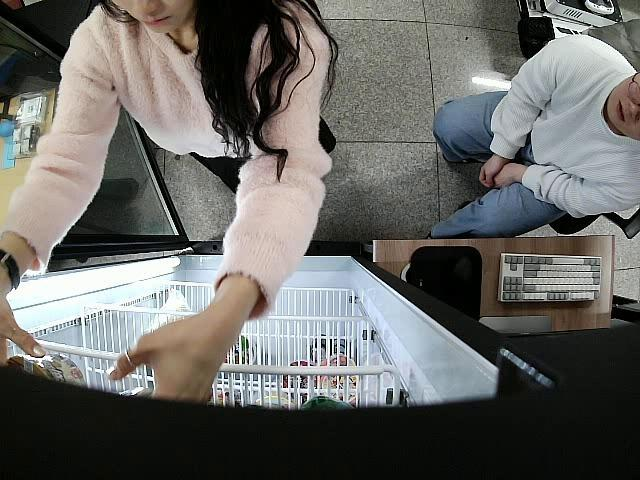04_chapagetti_S: (5, 354, 89, 390)
